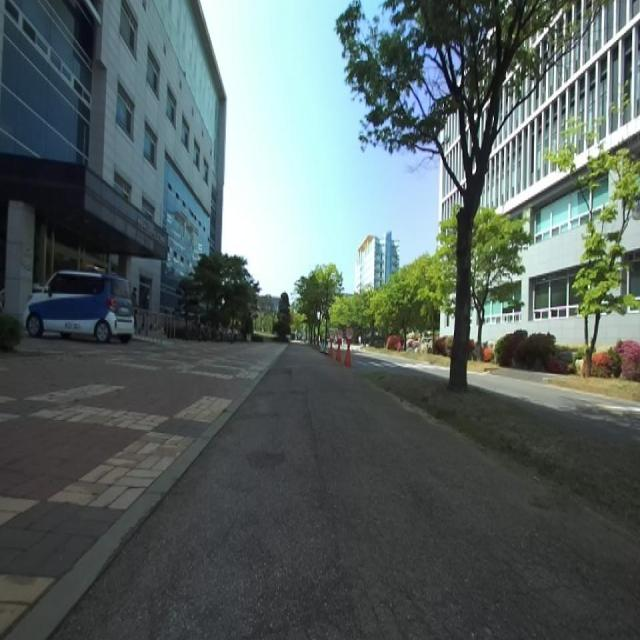sidewalk: (55, 344, 640, 639)
